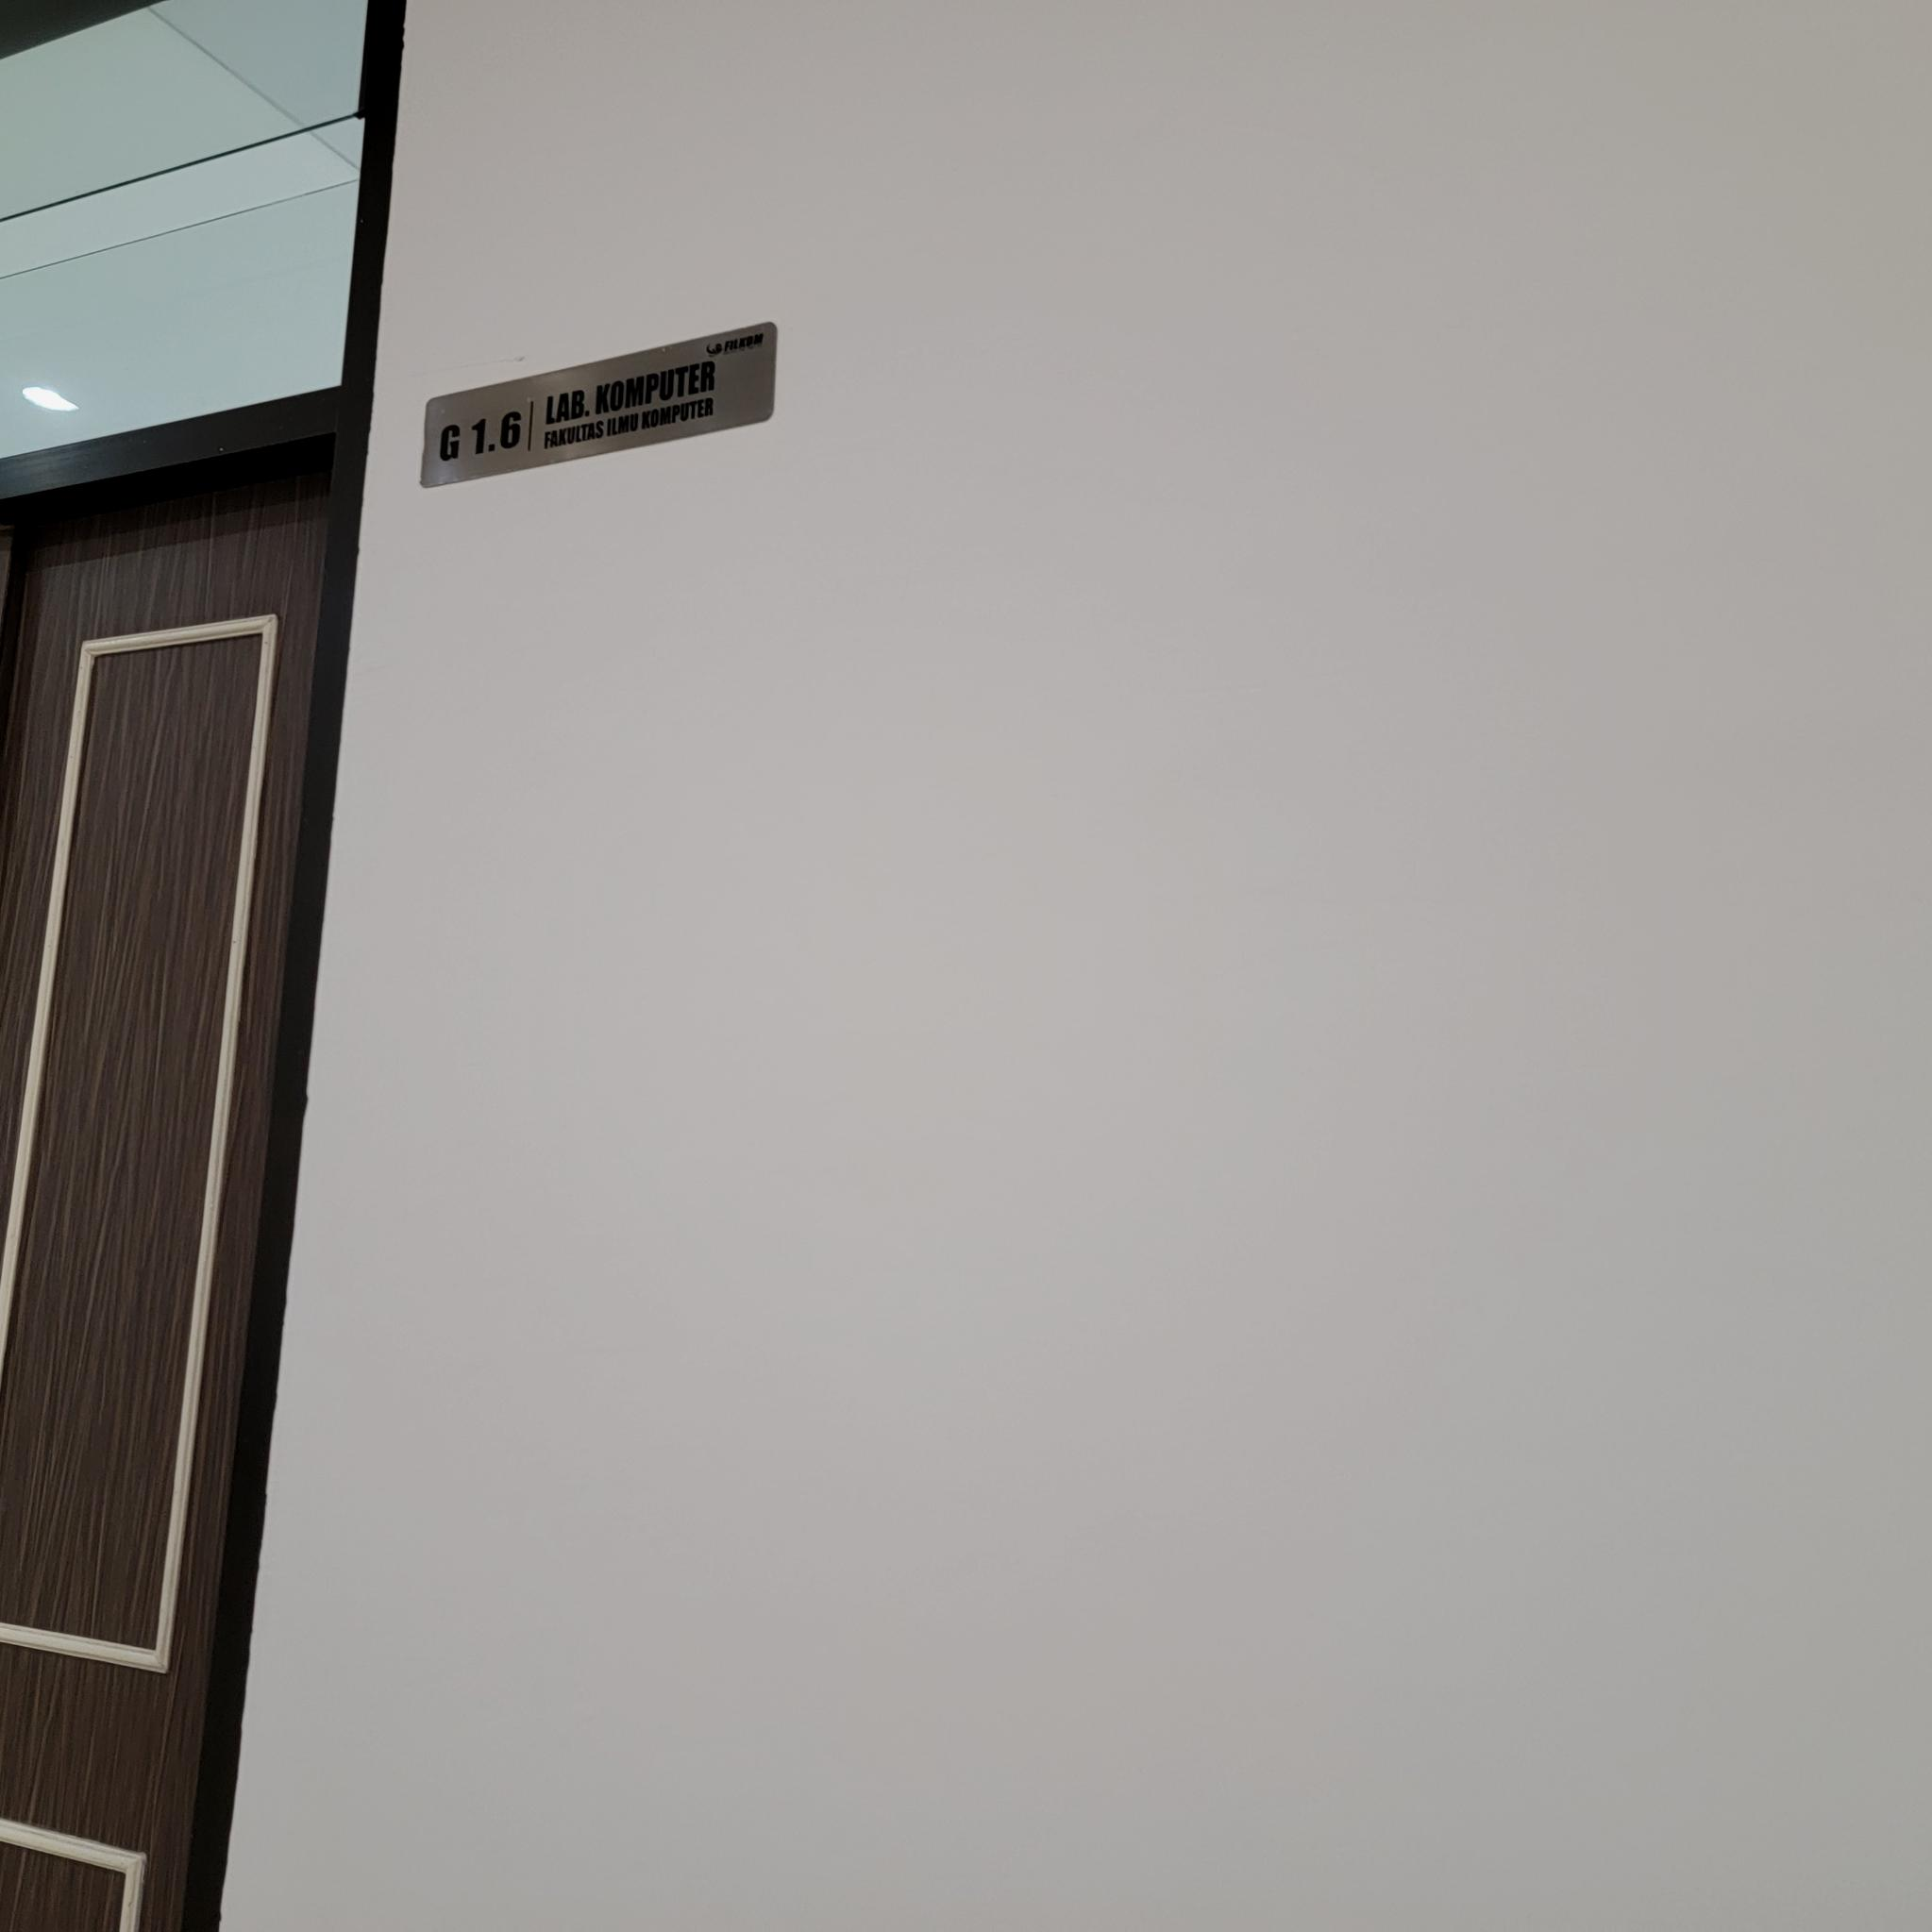plate: (421, 320, 777, 490)
